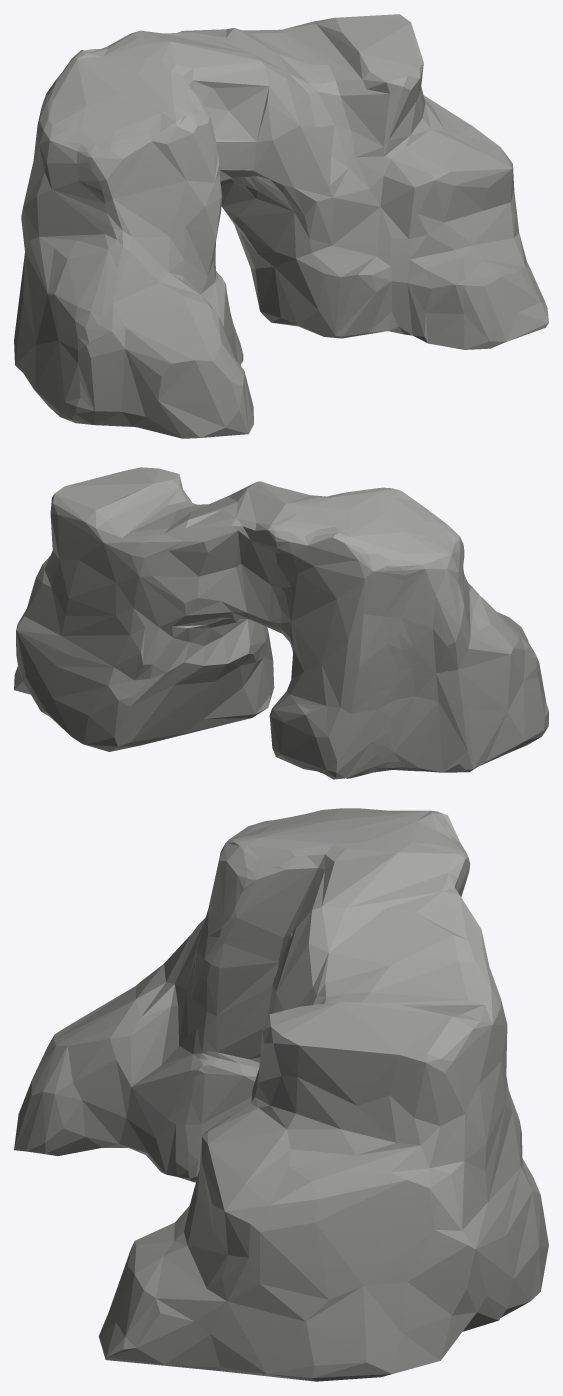
Rendered from Cavern_Entrance-01.fbx.
3 renders of one model, top to bottom at view 1: azimuth 30°, elevation 25°; view 2: azimuth 150°, elevation 25°; view 3: azimuth 270°, elevation 25°, orthographic. The views are drawn at different scales.
Visible parts, largest first — view 1: Cavern_Entrance-01; view 2: Cavern_Entrance-01; view 3: Cavern_Entrance-01.
Part boxes in pixels (x1,y1,x2,y2): Cavern_Entrance-01: [14, 14, 548, 438]; Cavern_Entrance-01: [14, 467, 548, 779]; Cavern_Entrance-01: [14, 808, 548, 1381].
Size of the model in its own units: 2630 by 1377 by 1894.
Materials: 1 (1 with a texture image).
